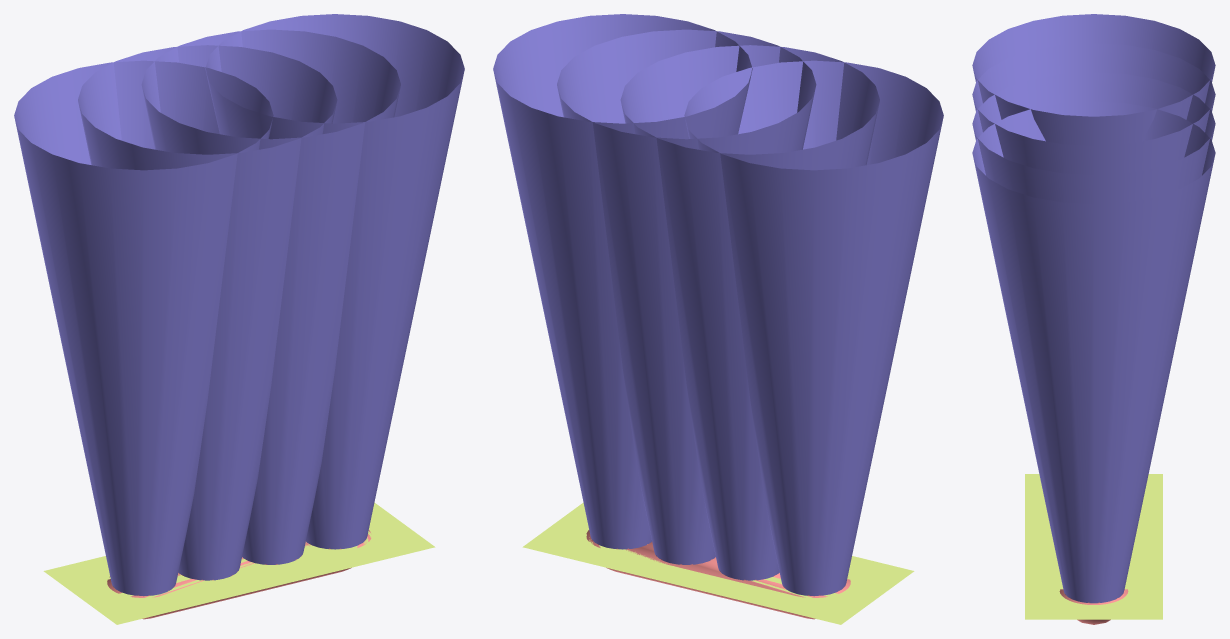
File: Light_DengPian5_1X1_on.FBX
3 renders of one model, left to right at view 1: azimuth 30°, elevation 25°; view 2: azimuth 150°, elevation 25°; view 3: azimuth 270°, elevation 25°, orthographic. The views are drawn at different scales.
Parts seen in each view (by area): view 1: Box001; view 2: Box001; view 3: Box001.
Part boxes in pixels (bbox=[...]): Box001: bbox=[14, 14, 464, 624]; Box001: bbox=[493, 14, 943, 624]; Box001: bbox=[972, 14, 1215, 624].
Bounding box in the file's own units: 3.26 × 3.75 × 1.76.
